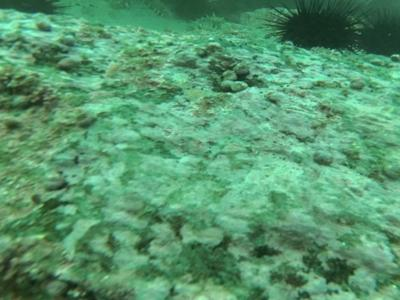urchin: (263, 3, 353, 52), (358, 11, 399, 59)
